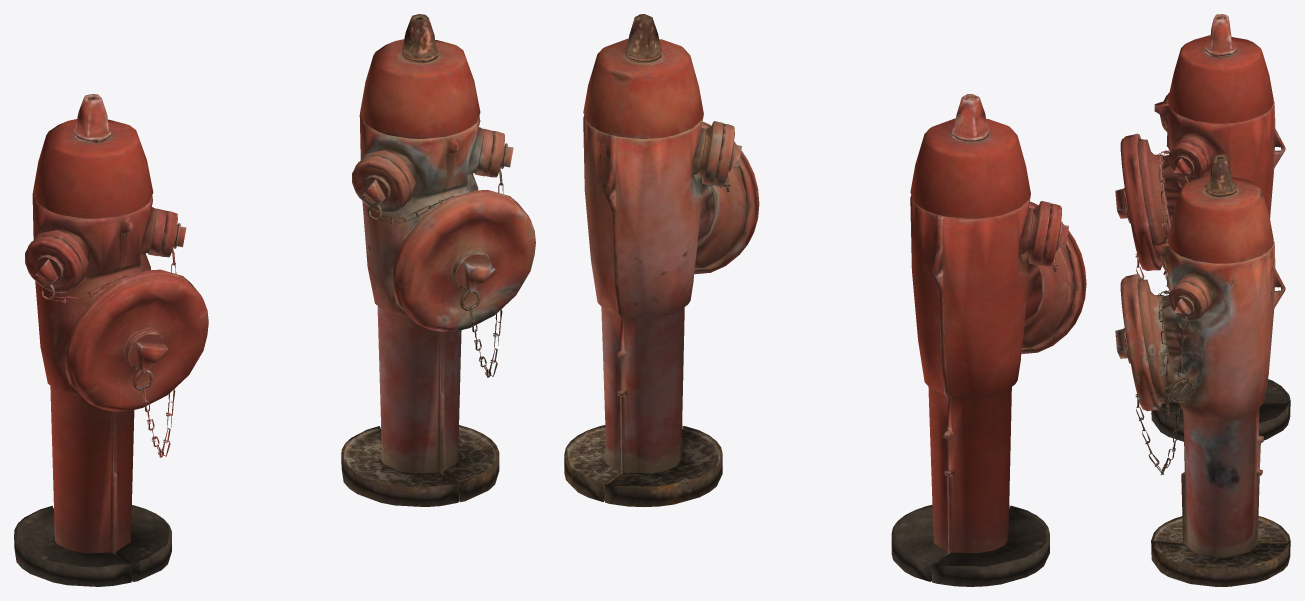
The model's file is hydrant.glb.
The picture shows the model from 3 angles, left to right: view 1: azimuth 30°, elevation 25°; view 2: azimuth 150°, elevation 25°; view 3: azimuth 270°, elevation 25°; orthographic projection. The views are drawn at different scales.
Parts seen in each view (by area): view 1: fire_hydrant_aged, fire_hydrant, fire_hydrant_cap_01, fire_hydrant_cap_01_aged, fire_hydrant_cap_03_aged, fire_hydrant_cap_03, fire_hydrant_chain_aged, fire_hydrant_chain, fire_hydrant_cap_02_aged, fire_hydrant_cap_02; view 2: fire_hydrant_aged, fire_hydrant, fire_hydrant_cap_01, fire_hydrant_cap_01_aged, fire_hydrant_cap_03, fire_hydrant_cap_03_aged; view 3: fire_hydrant_aged, fire_hydrant, fire_hydrant_cap_01_aged, fire_hydrant_cap_01, fire_hydrant_chain_aged, fire_hydrant_cap_02_aged, fire_hydrant_cap_02, fire_hydrant_chain.
Part boxes in pixels (bbox=[...]): fire_hydrant_aged: bbox=[341, 14, 499, 506]; fire_hydrant: bbox=[14, 94, 171, 586]; fire_hydrant_cap_01: bbox=[66, 269, 208, 411]; fire_hydrant_cap_01_aged: bbox=[393, 190, 535, 331]; fire_hydrant_cap_03_aged: bbox=[352, 155, 410, 213]; fire_hydrant_cap_03: bbox=[25, 235, 83, 293]; fire_hydrant_chain_aged: bbox=[367, 145, 504, 377]; fire_hydrant_chain: bbox=[40, 224, 177, 457]; fire_hydrant_cap_02_aged: bbox=[485, 131, 513, 177]; fire_hydrant_cap_02: bbox=[158, 210, 186, 257]; fire_hydrant_aged: bbox=[564, 14, 747, 507]; fire_hydrant: bbox=[891, 94, 1074, 586]; fire_hydrant_cap_01: bbox=[1021, 201, 1086, 353]; fire_hydrant_cap_01_aged: bbox=[694, 122, 759, 274]; fire_hydrant_cap_03: bbox=[1039, 203, 1068, 266]; fire_hydrant_cap_03_aged: bbox=[712, 123, 741, 186]; fire_hydrant_aged: bbox=[1138, 154, 1290, 586]; fire_hydrant: bbox=[1138, 14, 1290, 441]; fire_hydrant_cap_01_aged: bbox=[1115, 273, 1161, 411]; fire_hydrant_cap_01: bbox=[1115, 133, 1161, 270]; fire_hydrant_chain_aged: bbox=[1135, 290, 1195, 474]; fire_hydrant_cap_02_aged: bbox=[1168, 281, 1207, 320]; fire_hydrant_cap_02: bbox=[1168, 141, 1207, 180]; fire_hydrant_chain: bbox=[1135, 149, 1193, 280].
Size of the model in its own units: 0.8745 by 0.7994 by 0.3173.
Materials: 2 (2 with a texture image).
